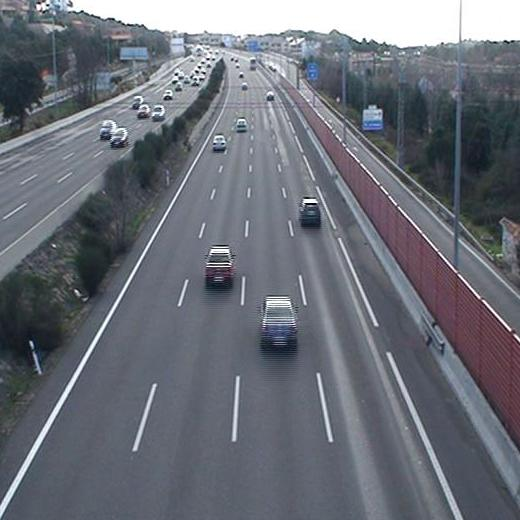car: (255, 292, 303, 356), (200, 240, 239, 292), (293, 194, 324, 232), (212, 132, 227, 154), (233, 116, 249, 133)
